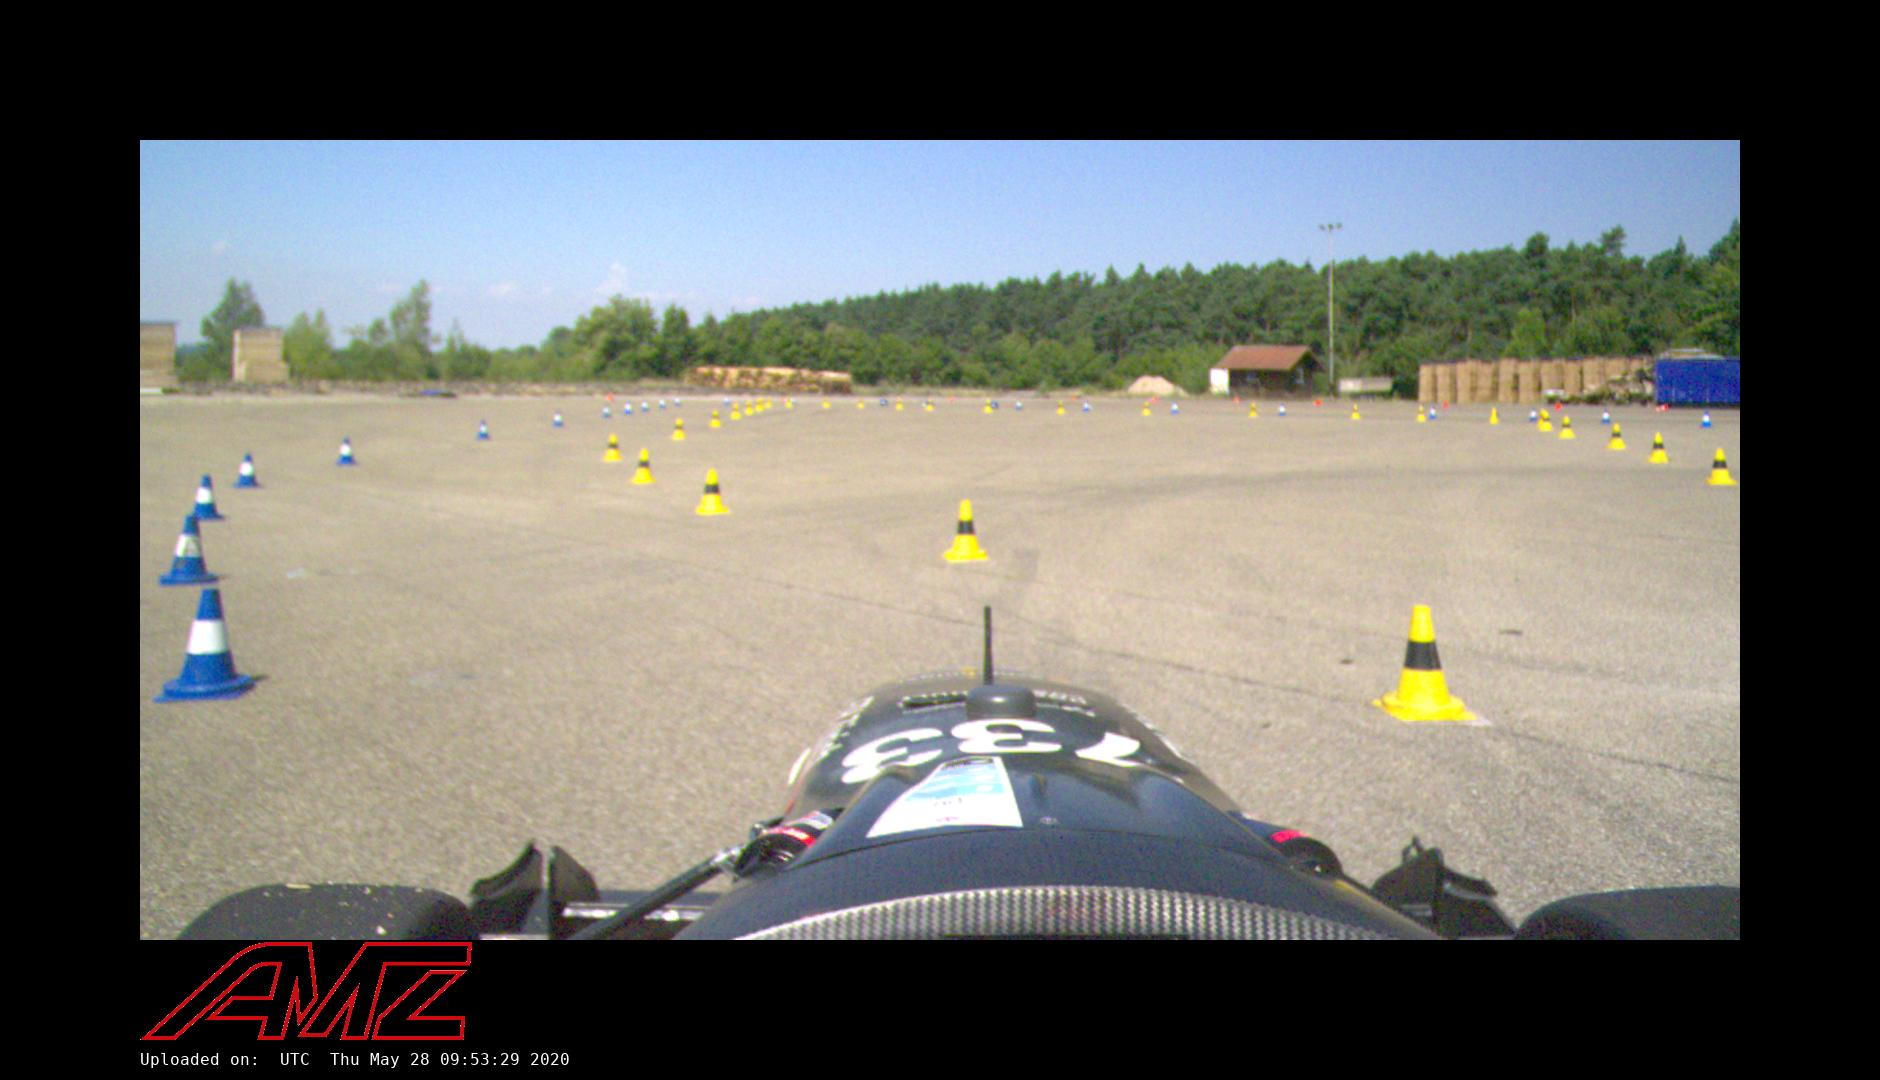blue_cone: (154, 588, 256, 701), (158, 515, 220, 585), (191, 475, 223, 521), (234, 453, 260, 488), (334, 438, 356, 465), (476, 420, 489, 441), (1699, 410, 1713, 428), (553, 410, 566, 428), (1601, 410, 1613, 424), (1529, 407, 1538, 422), (602, 404, 611, 419), (622, 400, 631, 413), (640, 399, 649, 412), (1171, 399, 1179, 413), (1429, 406, 1437, 419), (1278, 403, 1286, 415), (659, 398, 666, 410), (1083, 399, 1090, 411), (674, 397, 682, 406), (1016, 400, 1023, 410)
orange_cone: (1653, 404, 1670, 412)
yellow_cone: (1370, 605, 1478, 722), (941, 500, 990, 562), (693, 469, 730, 515), (1706, 448, 1737, 484), (629, 450, 656, 484), (1646, 431, 1670, 462), (1605, 422, 1627, 450), (602, 434, 622, 462), (1557, 416, 1575, 439), (671, 419, 687, 441), (1540, 412, 1553, 431), (1487, 407, 1500, 424), (710, 410, 720, 428), (1538, 408, 1547, 426), (731, 403, 741, 419), (744, 400, 754, 415), (1416, 406, 1425, 421), (1249, 402, 1258, 417), (1351, 404, 1360, 419), (1141, 400, 1150, 415), (984, 399, 993, 412), (925, 398, 934, 410), (757, 398, 764, 411), (895, 397, 903, 410), (1057, 400, 1064, 413)
